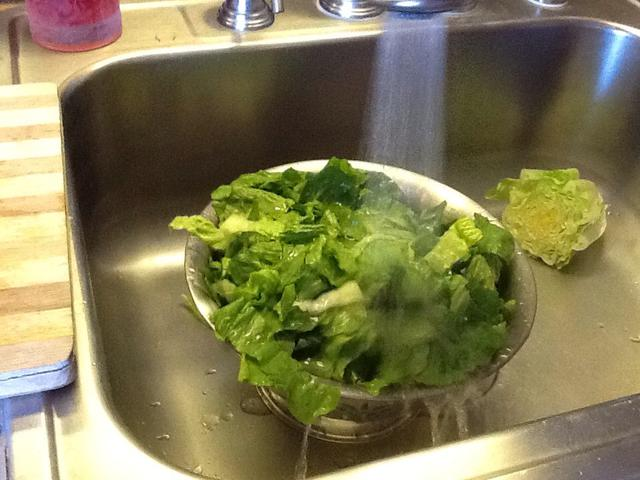chopped lettuce: (224, 159, 503, 387), (497, 170, 601, 265)
